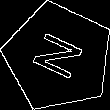N_SE: (27, 28, 90, 86)
